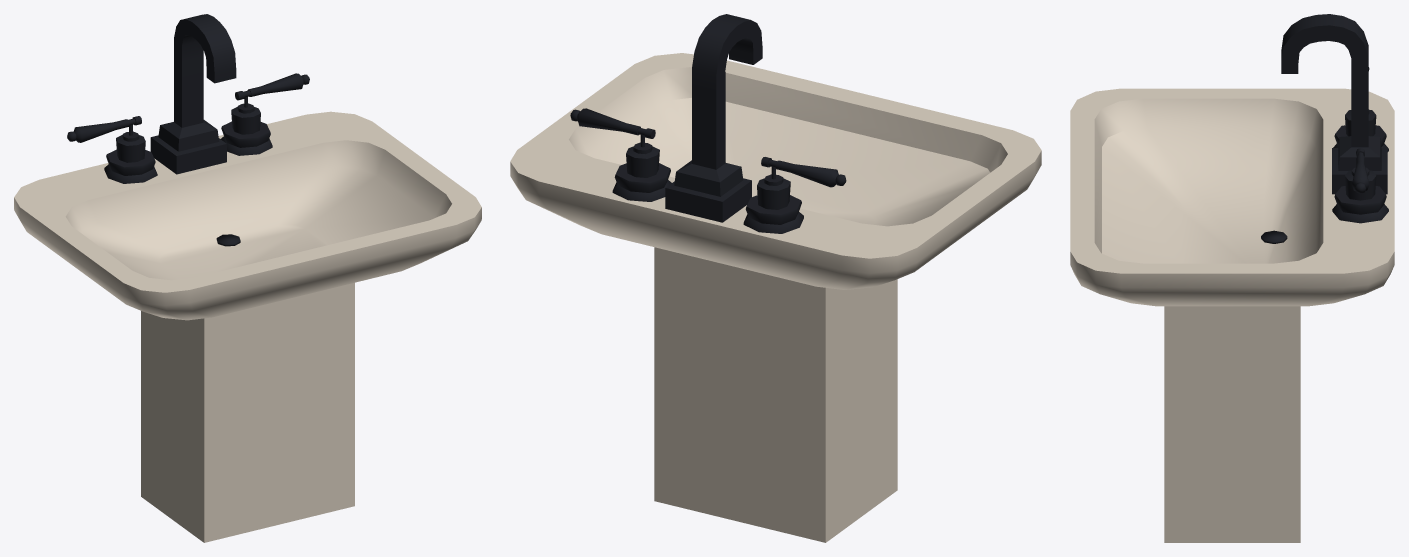
File: sink.fbx
3 renders of one model, left to right at view 1: azimuth 30°, elevation 25°; view 2: azimuth 150°, elevation 25°; view 3: azimuth 270°, elevation 25°, orthographic. The views are drawn at different scales.
Parts seen in each view (by area): view 1: sink, faucet, faucethandleL, faucethandleR; view 2: sink, faucet, faucethandleL, faucethandleR; view 3: sink, faucet, faucethandleR, faucethandleL.
Boxes of the visible parts, x1,y1,x2,y2 form: sink: (14,111,481,542); faucet: (150,14,236,174); faucethandleL: (67,116,157,183); faucethandleR: (220,73,309,155); sink: (510,53,1041,542); faucet: (665,14,762,222); faucethandleL: (743,157,846,233); faucethandleR: (570,108,671,201); sink: (1070,88,1394,542); faucet: (1281,14,1387,194); faucethandleR: (1332,148,1388,223); faucethandleL: (1333,67,1388,151).
Size of the model in its own units: 2.79 by 3.4 by 2.07.
